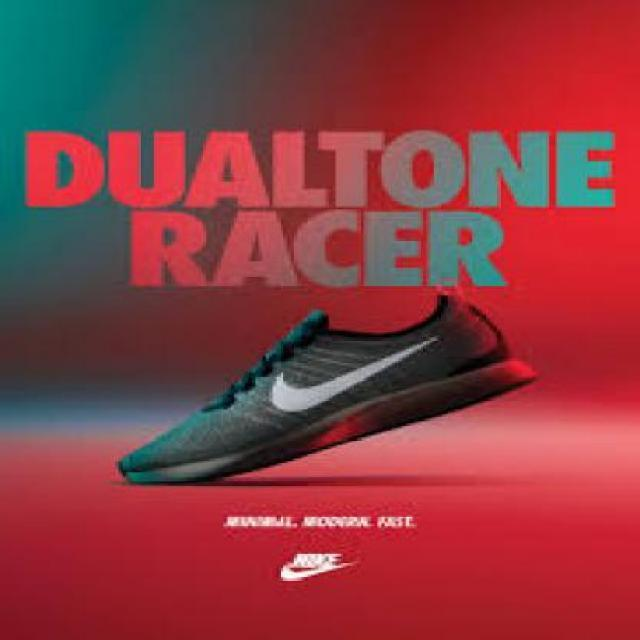Nike: (259, 330, 441, 415), (272, 547, 346, 583)
